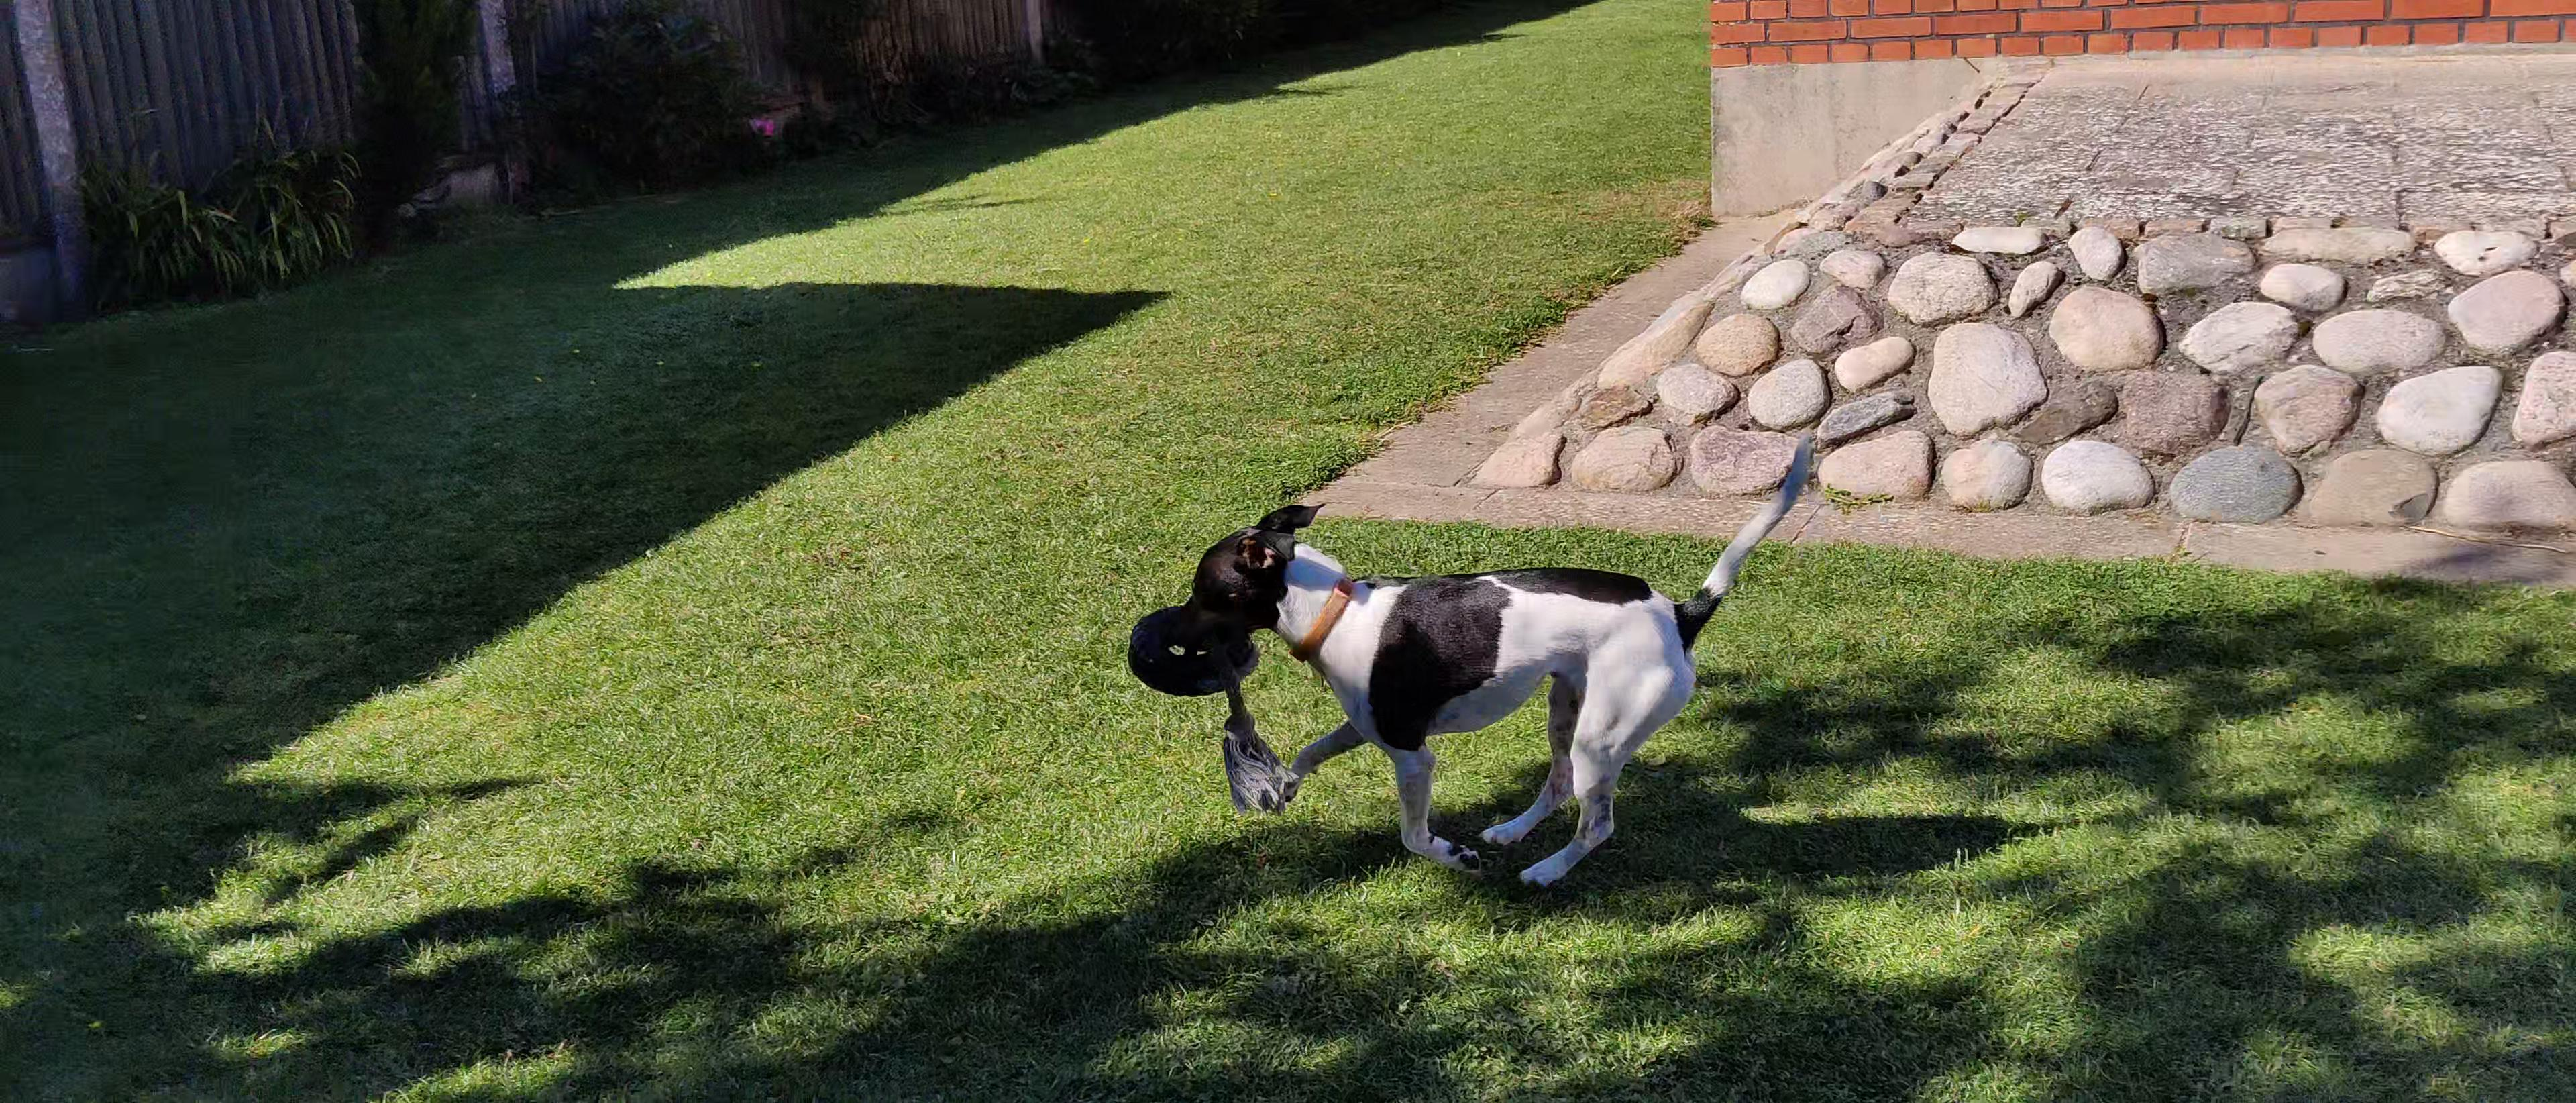Dog: (1163, 422, 1815, 891)
